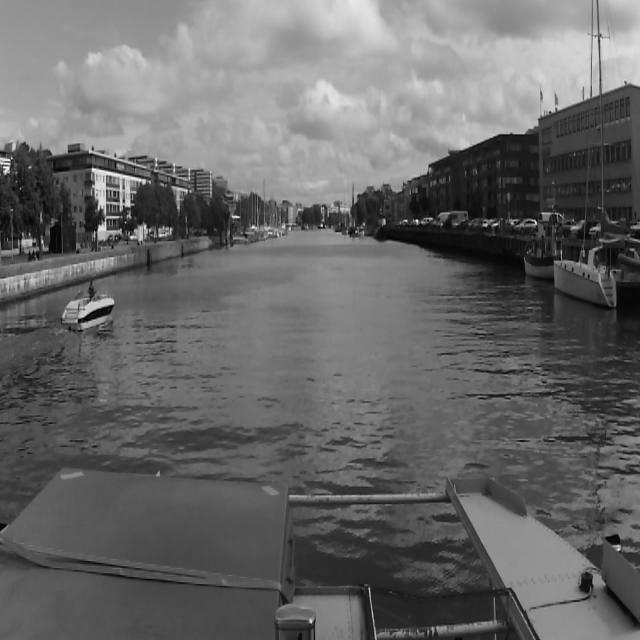ship: (554, 0, 640, 312), (59, 280, 114, 336), (524, 228, 552, 280)
